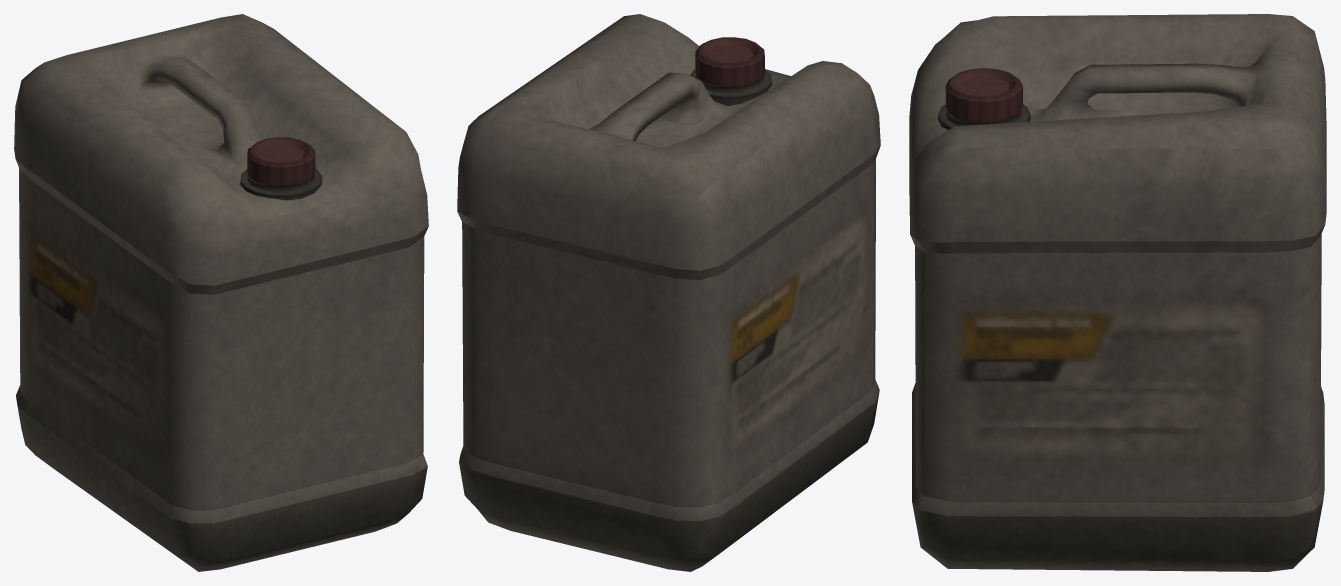
Rendered from jerrycan_1.obj.
The picture shows the model from 3 angles, left to right: view 1: azimuth 30°, elevation 25°; view 2: azimuth 150°, elevation 25°; view 3: azimuth 270°, elevation 25°; orthographic projection. The views are drawn at different scales.
Visible parts, largest first — view 1: jerrycan_1; view 2: jerrycan_1; view 3: jerrycan_1.
Part boxes in pixels (left/top/right/bottom): jerrycan_1: left=14, top=14, right=428, bottom=571; jerrycan_1: left=457, top=14, right=880, bottom=571; jerrycan_1: left=909, top=14, right=1326, bottom=571.
Size of the model in its own units: 0.3364 by 0.503 by 0.4198.
